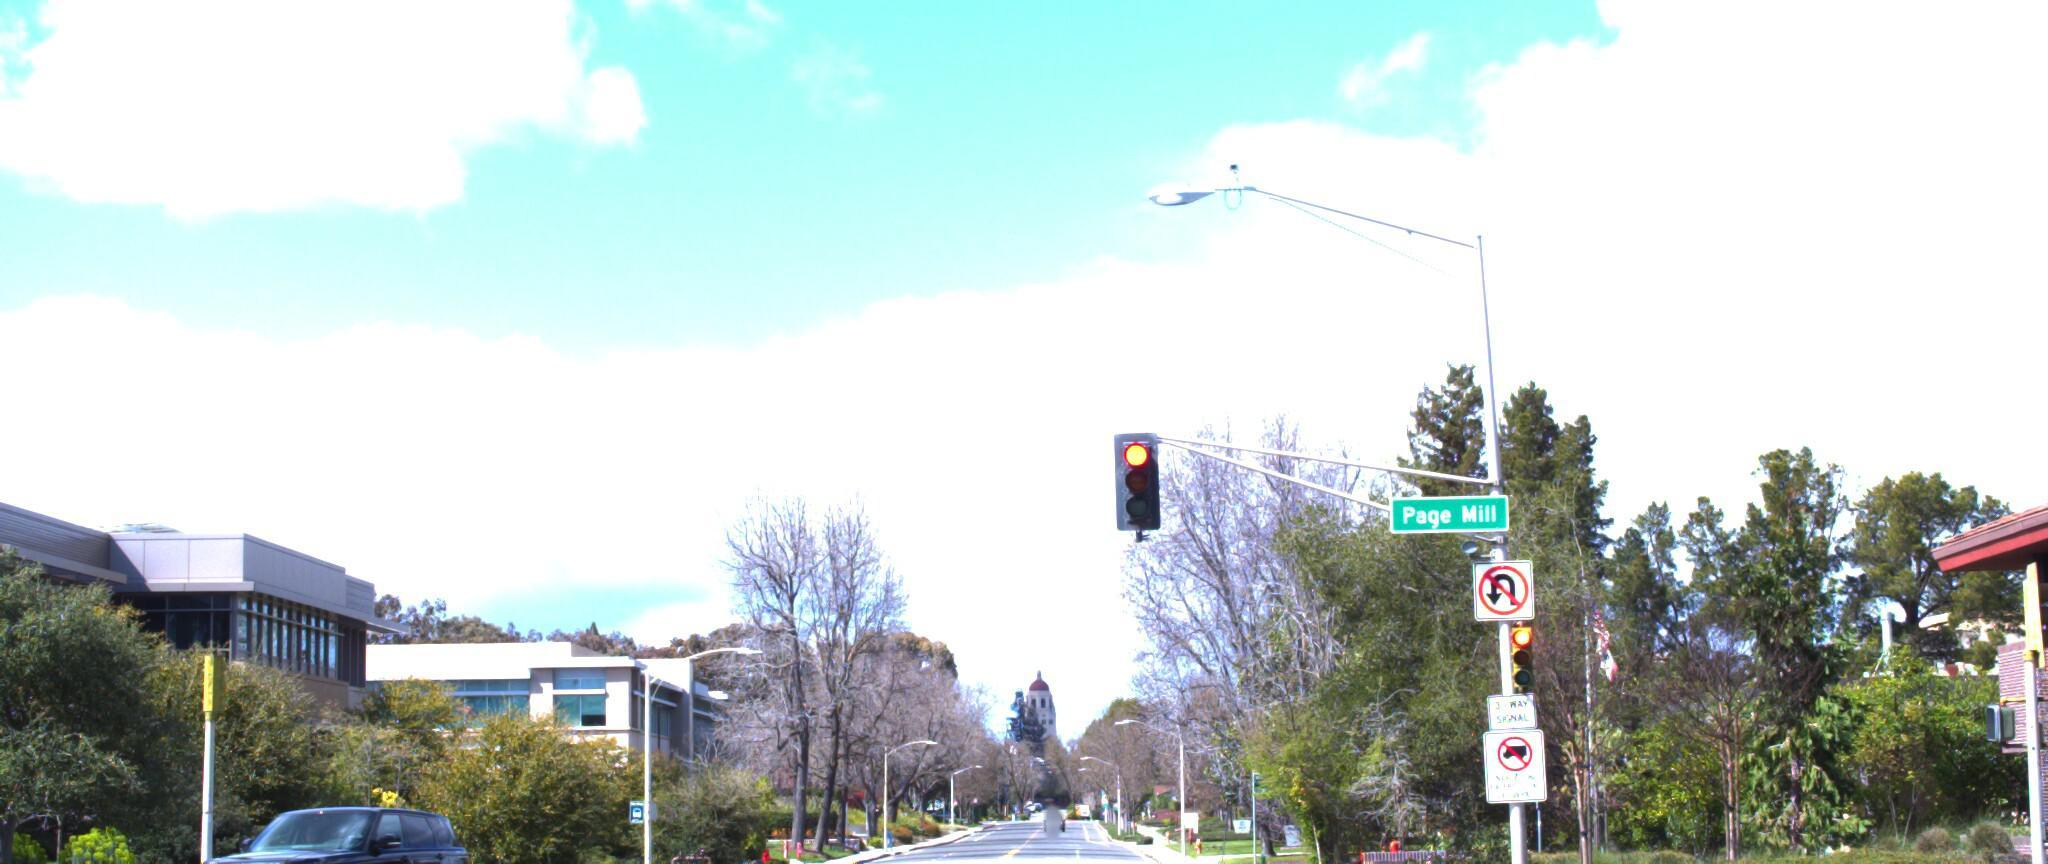car: (152, 807, 508, 864)
